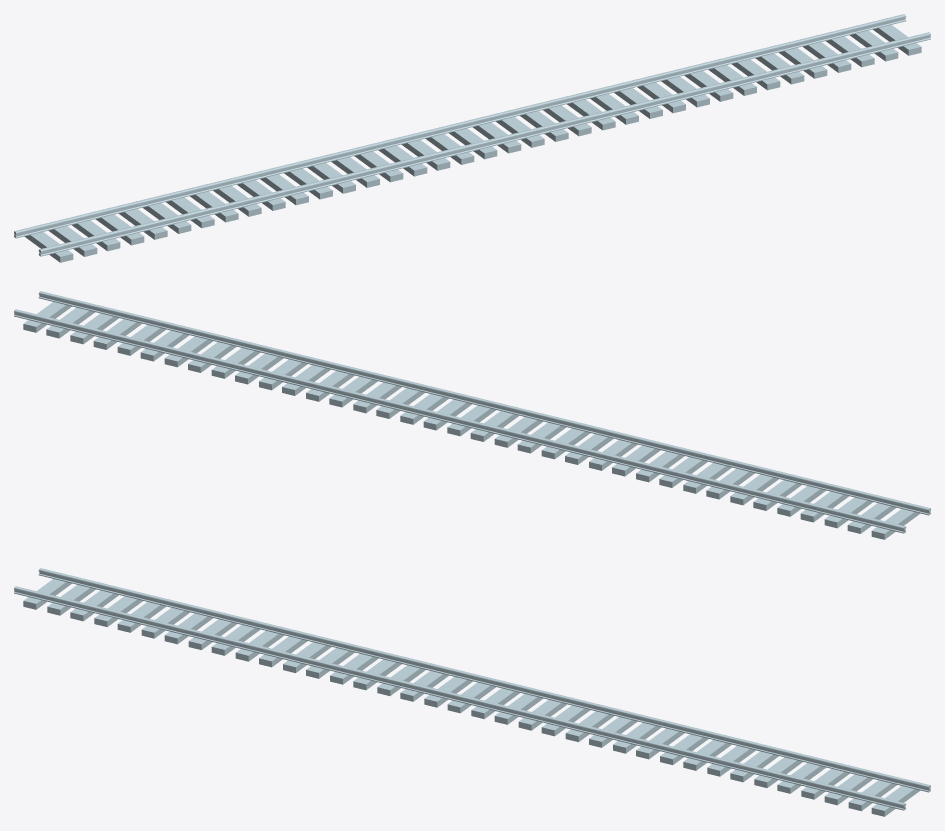
File: white_track.glb
3 views of the same model, one above another, from view 1: azimuth 30°, elevation 25°; view 2: azimuth 150°, elevation 25°; view 3: azimuth 330°, elevation 25° (orthographic).
Visible parts, largest first — view 1: Train_tracks; view 2: Train_tracks; view 3: Train_tracks.
Boxes of the visible parts, x1,y1,x2,y2 form: Train_tracks: (14, 14, 930, 262); Train_tracks: (14, 291, 930, 539); Train_tracks: (14, 568, 930, 816).
Bounding box in the file's own units: 1072 × 13.81 × 77.2.
